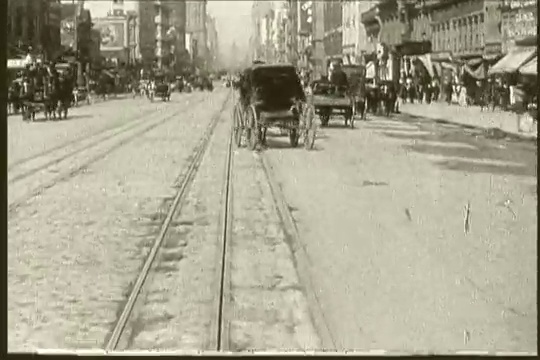carriage: (227, 60, 319, 161), (304, 67, 358, 132)
